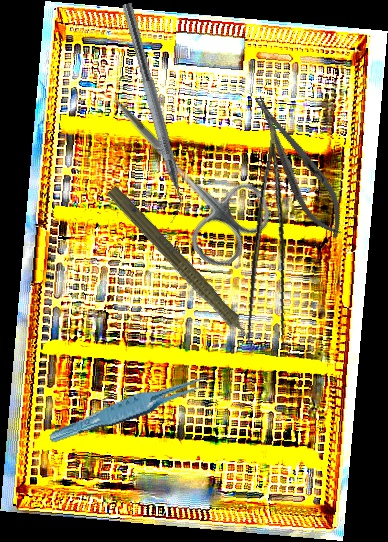Chopper: (107, 2, 194, 224)
Handpiece: (100, 182, 268, 360)
Iris Scissors: (79, 70, 283, 276)
Needle Holder: (240, 86, 357, 246)
Tissue Forceps: (239, 126, 313, 349), (44, 371, 223, 445)
